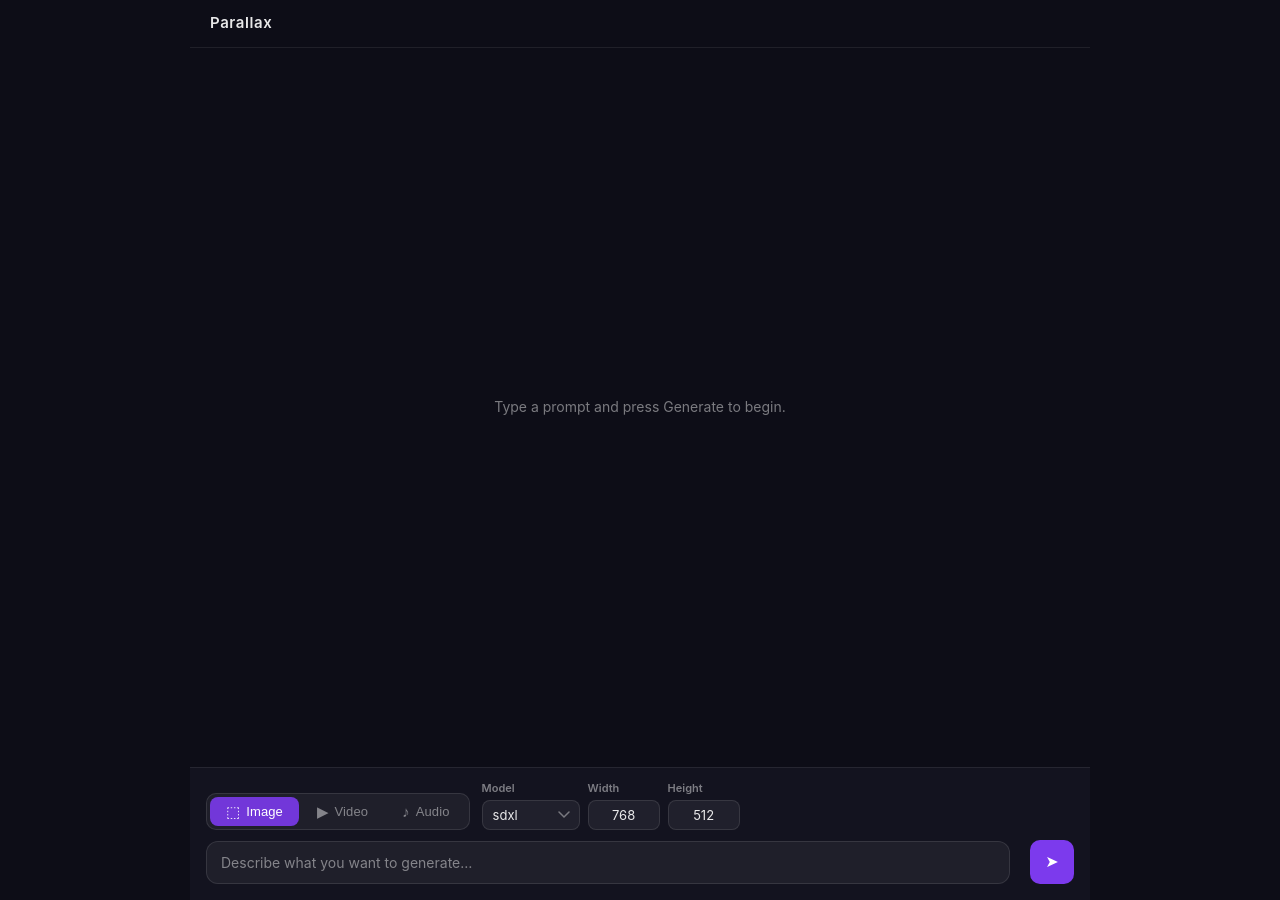
Test case: App — US-002 Image Upload integration › AC01: image upload control IS shown for i2v pipeline
Click the radio button with test id "media-type-video": (343, 812) [301,797,384,826]
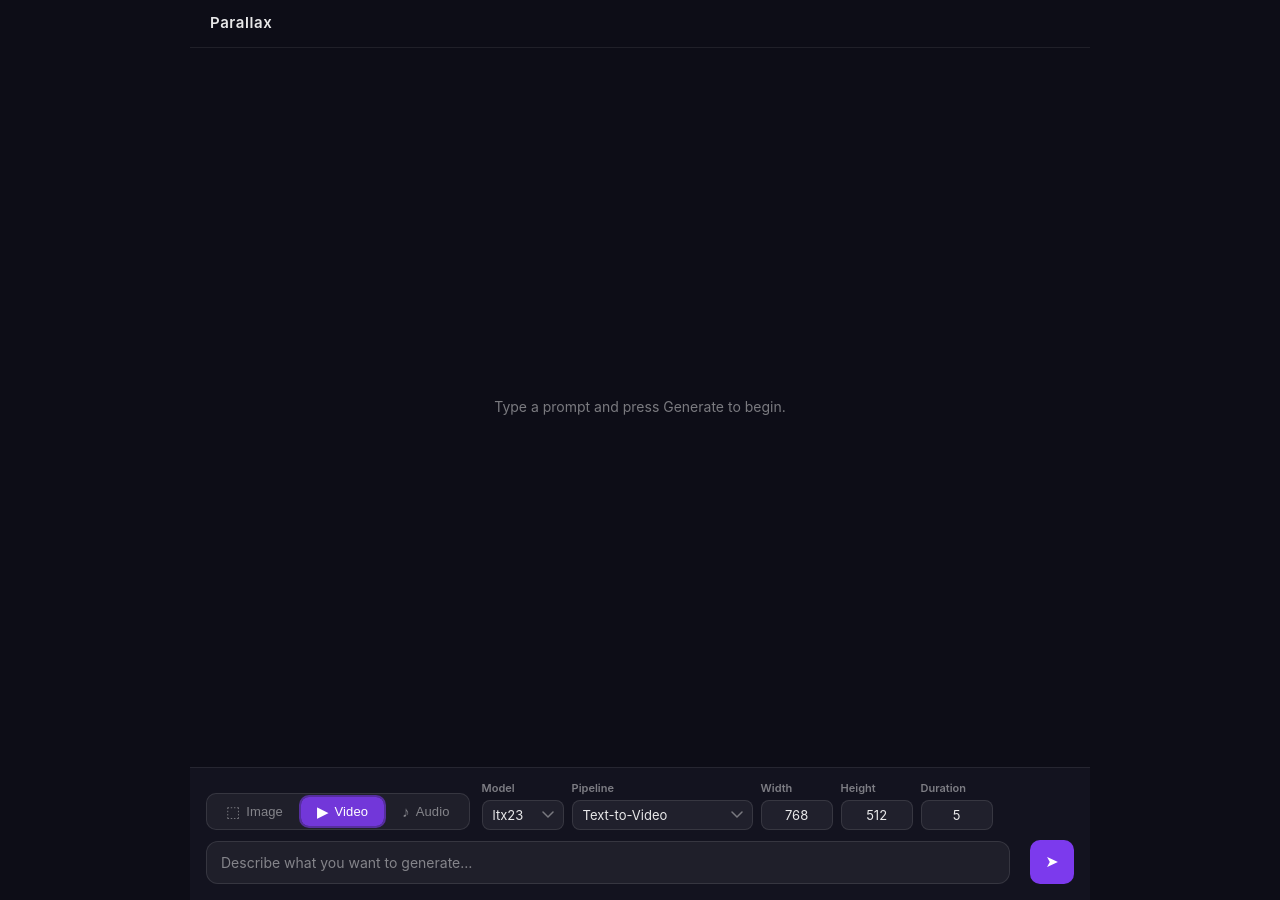
Select "Image-to-Video" in the dropdown with test id "select-pipeline": (662, 815) [572,800,753,830]
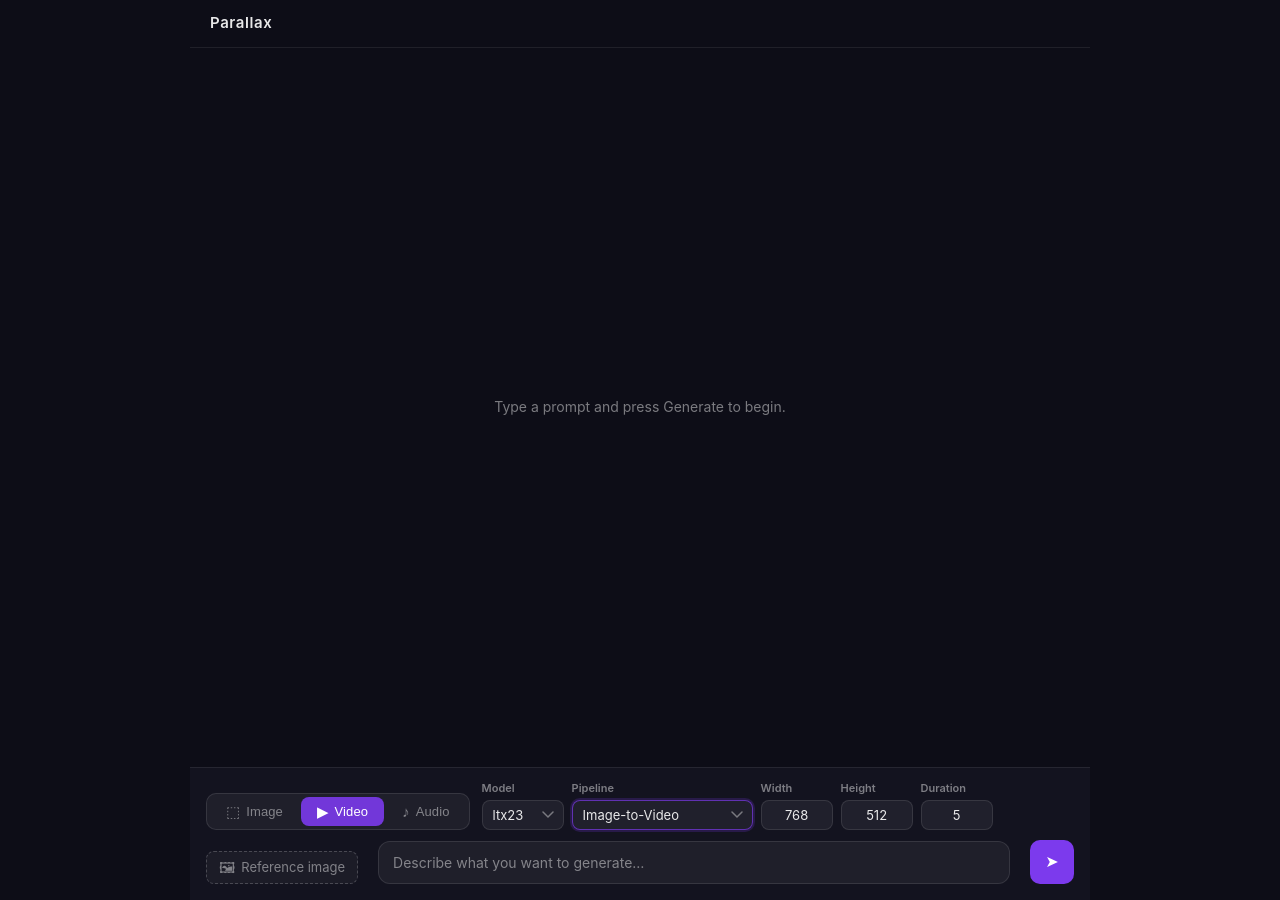
expect the element with test id "image-upload" is shown: met, box [206,850,358,884]
